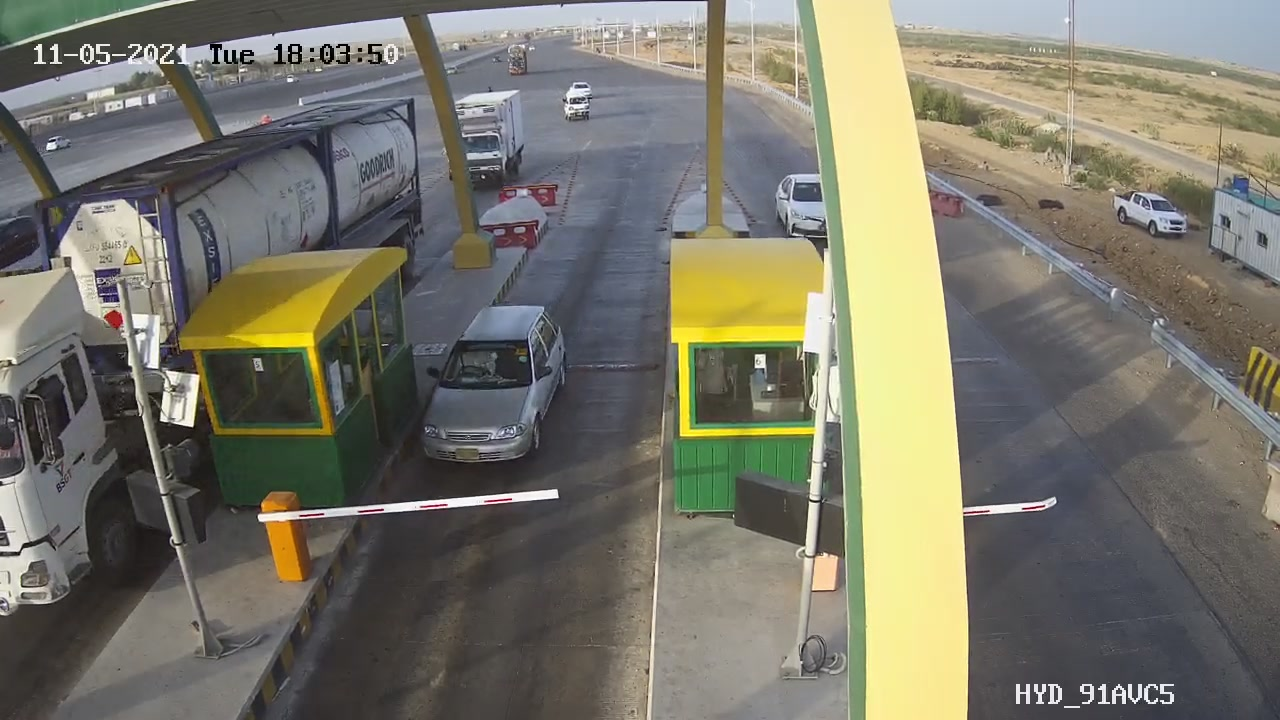F1: (398, 287, 594, 483)
